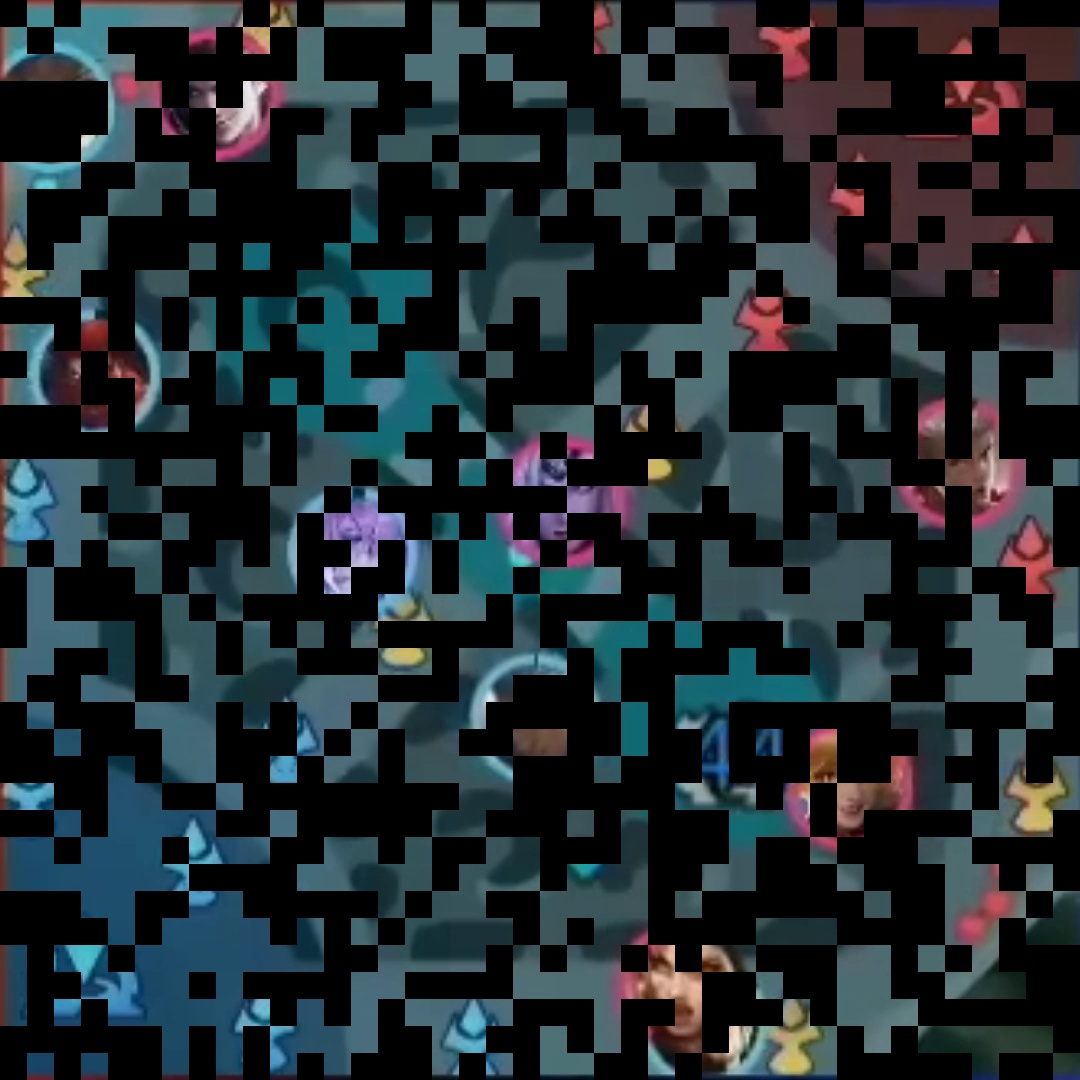Chou: (920, 415, 999, 507)
Claude: (171, 49, 262, 137)
Fanny: (808, 735, 893, 829)
Fredrinn: (494, 675, 586, 764)
Masha: (641, 932, 729, 1029)
Minotaur: (48, 334, 139, 421)
Novaria: (305, 502, 399, 602)
Valentina: (516, 452, 607, 549)
Wanwan: (9, 61, 92, 153)
